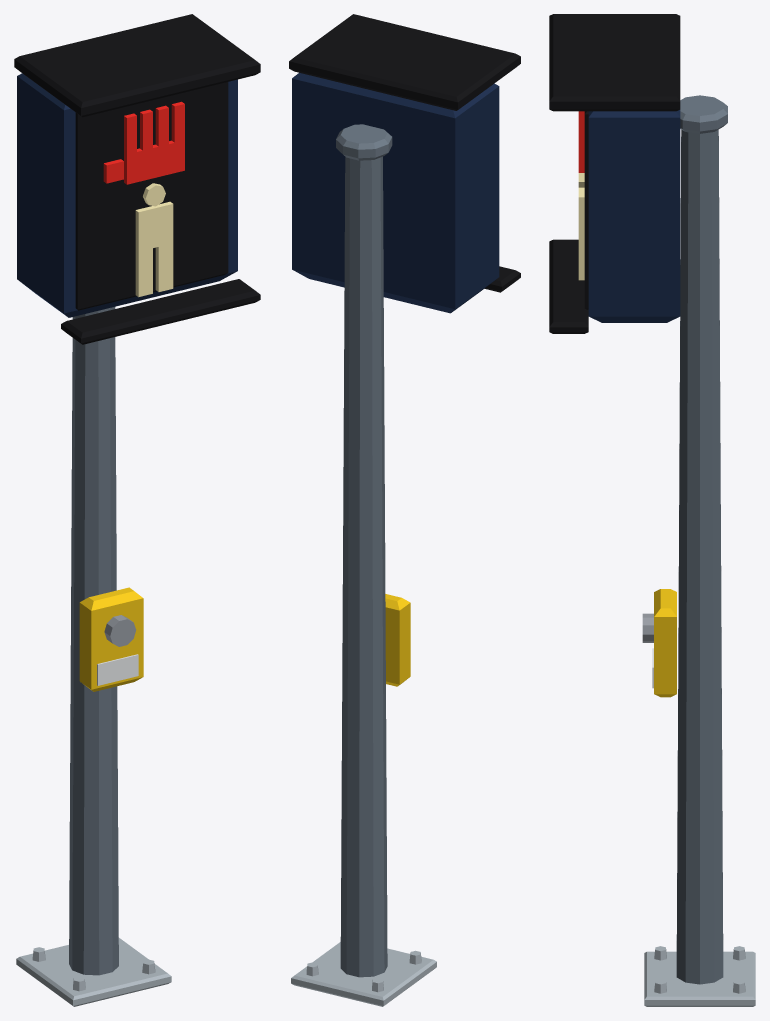
The model's file is PROP_02.obj.
3 renders of one model, left to right at view 1: azimuth 30°, elevation 25°; view 2: azimuth 150°, elevation 25°; view 3: azimuth 270°, elevation 25°, orthographic. The views are drawn at different scales.
Parts seen in each view (by area): view 1: PROP_02__housing, PROP_02__pole, PROP_02__hood, PROP_02__button_unit, PROP_02__base, PROP_02__display_hand, PROP_02__display_walk; view 2: PROP_02__pole, PROP_02__housing, PROP_02__hood, PROP_02__base, PROP_02__button_unit; view 3: PROP_02__pole, PROP_02__housing, PROP_02__hood, PROP_02__base, PROP_02__button_unit, PROP_02__display_walk.
Part boxes in pixels (bbox=[...]): PROP_02__housing: bbox=[17, 73, 237, 317]; PROP_02__pole: bbox=[69, 307, 118, 975]; PROP_02__hood: bbox=[14, 14, 260, 344]; PROP_02__button_unit: bbox=[79, 587, 143, 691]; PROP_02__base: bbox=[16, 937, 171, 1006]; PROP_02__display_hand: bbox=[103, 101, 184, 184]; PROP_02__display_walk: bbox=[135, 183, 173, 297]; PROP_02__pole: bbox=[336, 124, 392, 977]; PROP_02__housing: bbox=[292, 72, 499, 313]; PROP_02__hood: bbox=[289, 14, 520, 292]; PROP_02__base: bbox=[291, 942, 436, 1006]; PROP_02__button_unit: bbox=[385, 594, 410, 686]; PROP_02__pole: bbox=[676, 95, 727, 984]; PROP_02__housing: bbox=[584, 110, 680, 322]; PROP_02__hood: bbox=[549, 14, 680, 333]; PROP_02__base: bbox=[644, 946, 755, 1006]; PROP_02__button_unit: bbox=[642, 589, 676, 697]; PROP_02__display_walk: bbox=[578, 173, 584, 280].
Size of the model in its own units: 0.62 by 3.13 by 0.63.
